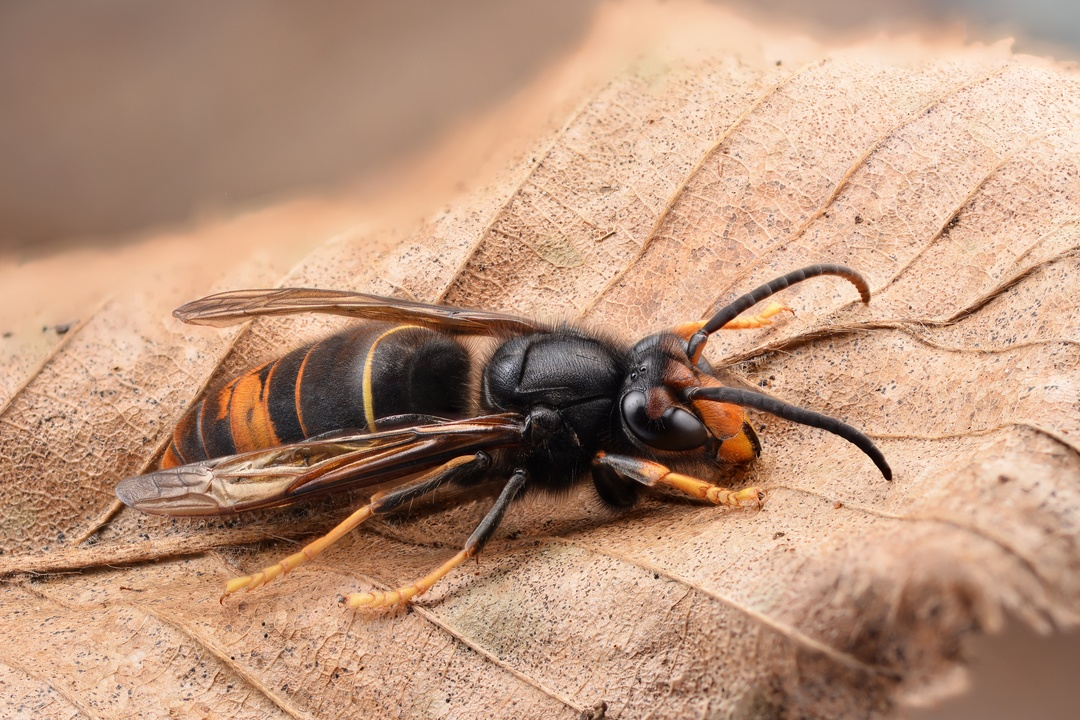hornet: (148, 264, 904, 611)
